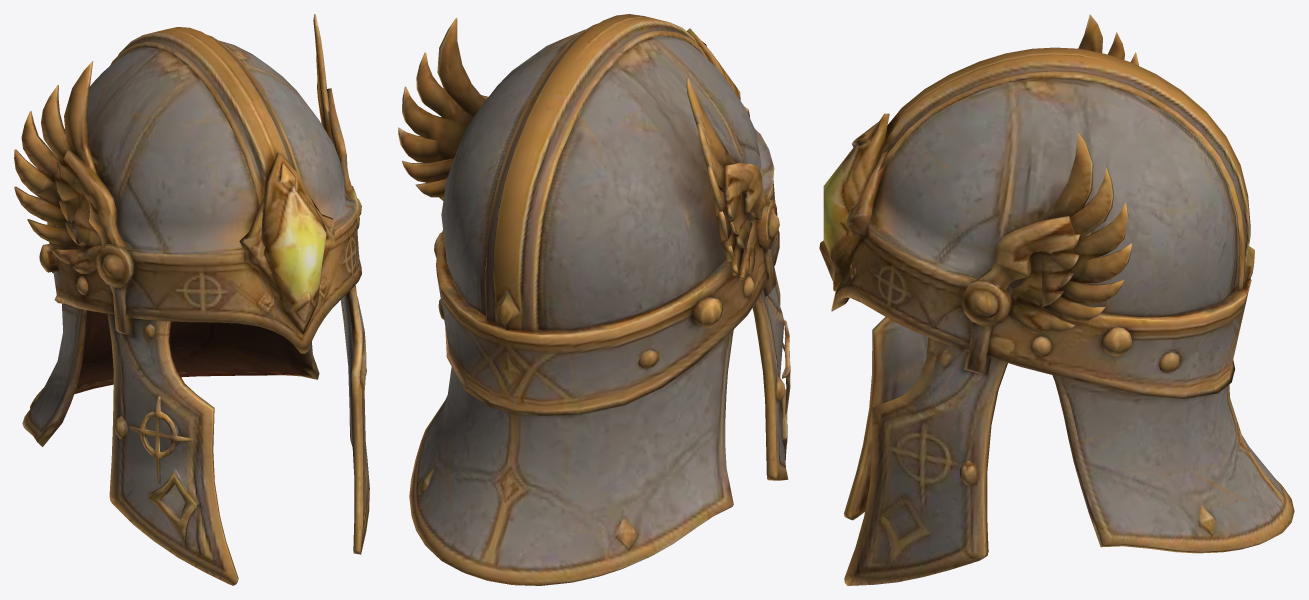
File: helm_of_brilliance.glb
The picture shows the model from 3 angles, left to right: view 1: azimuth 30°, elevation 25°; view 2: azimuth 150°, elevation 25°; view 3: azimuth 270°, elevation 25°; orthographic projection. The views are drawn at different scales.
Parts seen in each view (by area): view 1: helm_of_brilliance; view 2: helm_of_brilliance; view 3: helm_of_brilliance.
Part boxes in pixels (box(x1,y1,x2,y2)): helm_of_brilliance: box(14, 14, 369, 585); helm_of_brilliance: box(398, 14, 790, 585); helm_of_brilliance: box(819, 14, 1294, 585).
Bounding box in the file's own units: 0.2094 × 0.3 × 0.2593.
1 material, 1 textured.
